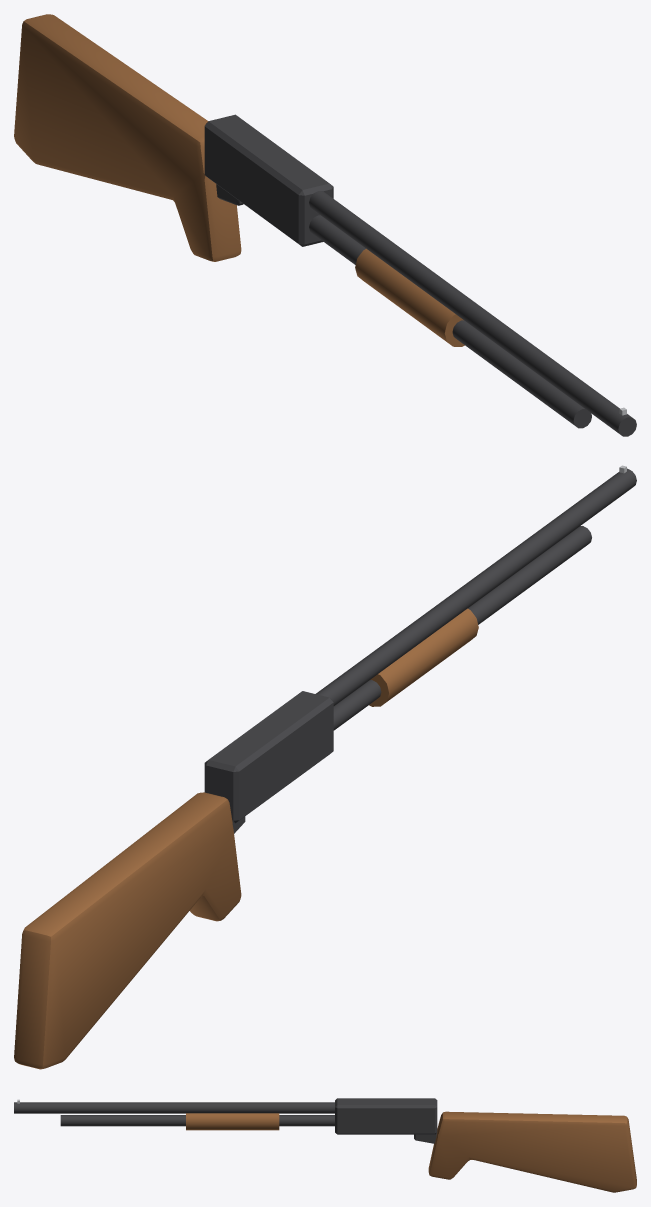
The model's file is shotgun.glb.
The picture shows the model from 3 angles, top to bottom: view 1: azimuth 30°, elevation 25°; view 2: azimuth 150°, elevation 25°; view 3: azimuth 270°, elevation 25°; orthographic projection. The views are drawn at different scales.
Visible parts, largest first — view 1: shotgun_mesh; view 2: shotgun_mesh; view 3: shotgun_mesh.
Boxes of the visible parts, <box> form: shotgun_mesh: <box>14,14,636,436</box>; shotgun_mesh: <box>14,465,636,1069</box>; shotgun_mesh: <box>14,1098,636,1192</box>.
Bounding box in the file's own units: 0.045 × 0.212 × 1.34.
